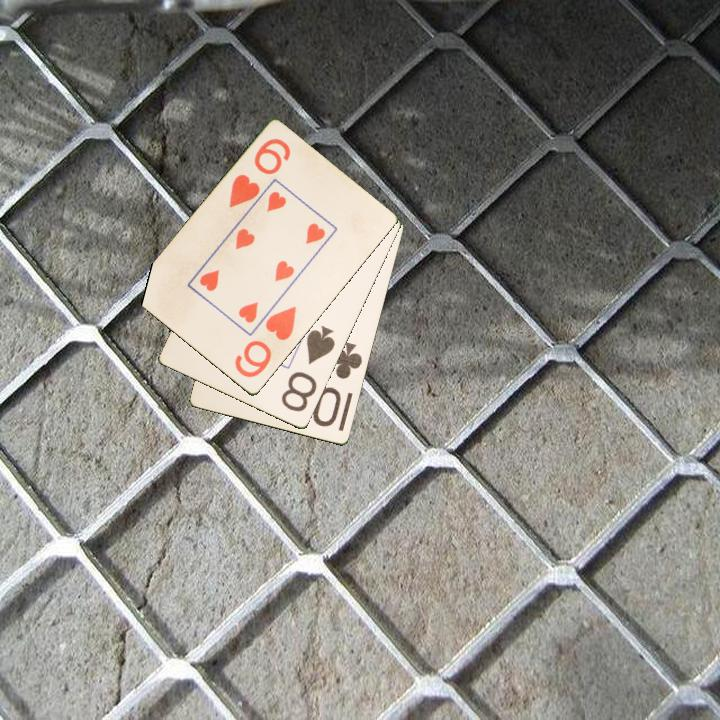10c: (310, 339, 366, 430)
6h: (231, 303, 299, 381), (225, 135, 294, 211)
8s: (278, 322, 338, 415)
